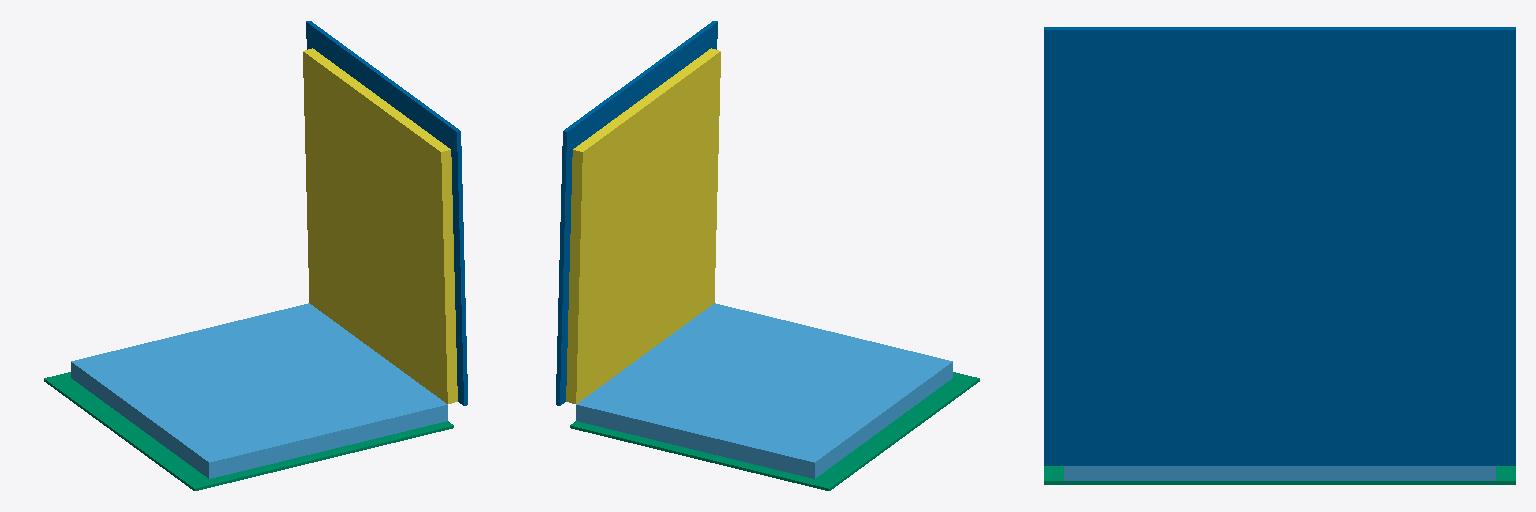
The robot description file, URDF, robot "procedural_notebook_0":
<?xml version="1.0" ?>
<robot name="procedural_notebook_0">
  <link name="root">
    <inertial>
      <origin xyz="0 0 0" rpy="0 0 0"/>
      <mass value="0.01"/>
      <inertia ixx="1e-6" ixy="0" ixz="0" iyy="1e-6" iyz="0" izz="1e-6"/>
    </inertial>
  </link>

  <joint name="base_fixed" type="fixed">
    <parent link="yaw_link"/>
    <child link="bottom"/>
    <origin xyz="0 0 0" rpy="0 0 0"/>
  </joint>

  <link name="bottom">
    <inertial>
      <origin xyz="0.0 0.0 0.005650175910214716" rpy="0 0 0"/>
      <mass value="0.5"/>
      <inertia ixx="1e-4" ixy="0" ixz="0" iyy="1e-4" iyz="0" izz="1e-4"/>
    </inertial>

    <visual>
      <origin xyz="0.0 0.0 0.005650175910214716" rpy="0 0 0"/>
      <geometry><box size="0.1711541438766307 0.17200086041781337 0.011300351820429431"/></geometry>
    </visual>
    <collision>
      <origin xyz="0.0 0.0 0.005650175910214716" rpy="0 0 0"/>
      <geometry><box size="0.1711541438766307 0.17200086041781337 0.011300351820429431"/></geometry>
    </collision>
  </link>

  <joint name="bottom_cover_fixed" type="fixed">
    <parent link="bottom"/>
    <child link="bottom_cover"/>
    <origin xyz="-0.007502537510347476 0 -0.0009021429571014782" rpy="0 0 0"/>
  </joint>

  <link name="bottom_cover">
    <inertial>
      <origin xyz="0.0 0.0 0.0" rpy="0 0 0"/>
      <mass value="0.2"/>
      <inertia ixx="1e-4" ixy="0" ixz="0" iyy="1e-4" iyz="0" izz="1e-4"/>
    </inertial>

    <visual>
      <origin xyz="0.0 0.0 0.0" rpy="0 0 0"/>
      <geometry><box size="0.18615921889732565 0.18753187781830985 0.0018042859142029565"/></geometry>
    </visual>
    <collision>
      <origin xyz="0.0 0.0 0.0" rpy="0 0 0"/>
      <geometry><box size="0.18615921889732565 0.18753187781830985 0.0018042859142029565"/></geometry>
    </collision>
  </link>

  <joint name="rotation" type="revolute">
    <parent link="bottom"/>
    <child link="top"/>
    <origin xyz="0.08557707193831535 0 0.011300351820429431" rpy="0 0 0"/>
    <axis xyz="0 1 0"/>
    <dynamics damping="0.01" friction="0.01"/>
    <limit effort="50.0" velocity="50.0" lower="0.087" upper="3.0"/>
  </joint>

  <link name="top">
    <inertial>
      <origin xyz="-0.08701678300329964 0.0 0.0036160536907441135" rpy="0 0 0"/>
      <mass value="0.35"/>
      <inertia ixx="1e-4" ixy="0" ixz="0" iyy="1e-4" iyz="0" izz="1e-4"/>
    </inertial>

    <visual>
      <origin xyz="-0.08701678300329964 0.0 0.0036160536907441135" rpy="0 0 0"/>
      <geometry><box size="0.17403356600659928 0.17200086041781337 0.007232107381488227"/></geometry>
    </visual>
    <collision>
      <origin xyz="-0.08701678300329964 0.0 0.0036160536907441135" rpy="0 0 0"/>
      <geometry><box size="0.17403356600659928 0.17200086041781337 0.007232107381488227"/></geometry>
    </collision>
  </link>

  <joint name="top_cover_fixed" type="fixed">
    <parent link="top"/>
    <child link="top_cover"/>
    <origin xyz="-0.094645539908918 0 0.00872047056593745" rpy="0 0 0"/>
  </joint>

  <link name="top_cover">
    <inertial>
      <origin xyz="0.0 0.0 0.0" rpy="0 0 0"/>
      <mass value="0.2"/>
      <inertia ixx="1e-4" ixy="0" ixz="0" iyy="1e-4" iyz="0" izz="1e-4"/>
    </inertial>

    <visual>
      <origin xyz="0.0 0.0 0.0" rpy="0 0 0"/>
      <geometry><box size="0.189291079817836 0.18753187781830985 0.0029767263688984464"/></geometry>
    </visual>
    <collision>
      <origin xyz="0.0 0.0 0.0" rpy="0 0 0"/>
      <geometry><box size="0.189291079817836 0.18753187781830985 0.0029767263688984464"/></geometry>
    </collision>
  </link>

  <link name="tx_link">
    <inertial>
      <origin xyz="0 0 0" rpy="0 0 0"/>
      <mass value="0.01"/>
      <inertia ixx="1e-6" ixy="0" ixz="0" iyy="1e-6" iyz="0" izz="1e-6"/>
    </inertial>
  </link>

  <joint name="tx_joint" type="prismatic">
    <parent link="root"/>
    <child link="tx_link"/>
    <axis xyz="1 0 0"/>
    <limit lower="-5.0" upper="5.0" effort="50" velocity="1"/>
  </joint>
  <link name="ty_link">
    <inertial>
      <origin xyz="0 0 0" rpy="0 0 0"/>
      <mass value="0.01"/>
      <inertia ixx="1e-6" ixy="0" ixz="0" iyy="1e-6" iyz="0" izz="1e-6"/>
    </inertial>
  </link>

  <joint name="ty_joint" type="prismatic">
    <parent link="tx_link"/>
    <child link="ty_link"/>
    <axis xyz="0 1 0"/>
    <limit lower="-5.0" upper="5.0" effort="50" velocity="1"/>
  </joint>
  <link name="tz_link">
    <inertial>
      <origin xyz="0 0 0" rpy="0 0 0"/>
      <mass value="0.01"/>
      <inertia ixx="1e-6" ixy="0" ixz="0" iyy="1e-6" iyz="0" izz="1e-6"/>
    </inertial>
  </link>

  <joint name="tz_joint" type="prismatic">
    <parent link="ty_link"/>
    <child link="tz_link"/>
    <axis xyz="0 0 1"/>
    <limit lower="-5.0" upper="5.0" effort="50" velocity="1"/>
  </joint>
  <link name="roll_link">
    <inertial>
      <origin xyz="0 0 0" rpy="0 0 0"/>
      <mass value="0.01"/>
      <inertia ixx="1e-6" ixy="0" ixz="0" iyy="1e-6" iyz="0" izz="1e-6"/>
    </inertial>
  </link>

  <joint name="roll_joint" type="revolute">
    <parent link="tz_link"/>
    <child link="roll_link"/>
    <axis xyz="1 0 0"/>
    <limit lower="-31.41592653589793" upper="31.41592653589793" effort="50" velocity="1"/>
  </joint>
  <link name="pitch_link">
    <inertial>
      <origin xyz="0 0 0" rpy="0 0 0"/>
      <mass value="0.01"/>
      <inertia ixx="1e-6" ixy="0" ixz="0" iyy="1e-6" iyz="0" izz="1e-6"/>
    </inertial>
  </link>

  <joint name="pitch_joint" type="revolute">
    <parent link="roll_link"/>
    <child link="pitch_link"/>
    <axis xyz="0 1 0"/>
    <limit lower="-31.41592653589793" upper="31.41592653589793" effort="50" velocity="1"/>
  </joint>
  <link name="yaw_link">
    <inertial>
      <origin xyz="0 0 0" rpy="0 0 0"/>
      <mass value="0.01"/>
      <inertia ixx="1e-6" ixy="0" ixz="0" iyy="1e-6" iyz="0" izz="1e-6"/>
    </inertial>
  </link>

  <joint name="yaw_joint" type="revolute">
    <parent link="pitch_link"/>
    <child link="yaw_link"/>
    <axis xyz="0 0 1"/>
    <limit lower="-31.41592653589793" upper="31.41592653589793" effort="50" velocity="1"/>
  </joint>

</robot>

--- Render facts (derived) ---
3 views of the same robot in one strip: view 1: azimuth 30°, elevation 25°; view 2: azimuth 150°, elevation 25°; view 3: azimuth 270°, elevation 25° (orthographic).
Model procedural_notebook_0 with 11 links and 10 joints (4 revolute, 3 prismatic, 3 fixed), rooted at root, posed joints at zero except 1 at the middle of their limits (rotation = 1.54).
Visible links, largest first — view 1: bottom, top, top_cover, bottom_cover; view 2: bottom, top, top_cover, bottom_cover; view 3: top_cover, bottom, bottom_cover.
Boxes of the visible links, bbox=[...] form: bottom: bbox=[71, 303, 447, 478]; top: bbox=[303, 48, 457, 403]; top_cover: bbox=[306, 21, 467, 405]; bottom_cover: bbox=[44, 372, 453, 490]; bottom: bbox=[576, 303, 952, 478]; top: bbox=[566, 48, 720, 403]; top_cover: bbox=[556, 21, 717, 405]; bottom_cover: bbox=[570, 372, 979, 490]; top_cover: bbox=[1044, 27, 1515, 465]; bottom: bbox=[1064, 466, 1495, 480]; bottom_cover: bbox=[1044, 466, 1515, 484].
Size in the robot's own frame: 0.1964 by 0.1875 by 0.2026 metres.
Geometry: primitives only (box / cylinder / sphere), no mesh files.
